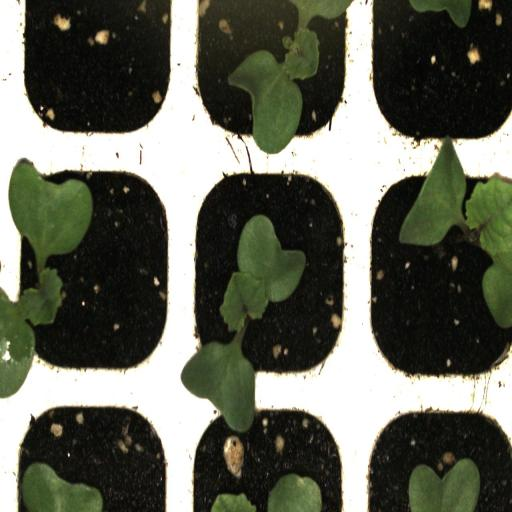noseedling: (8, 1, 182, 162)
seedling: (178, 160, 356, 395), (5, 159, 181, 396), (357, 160, 512, 398), (186, 2, 356, 162)
